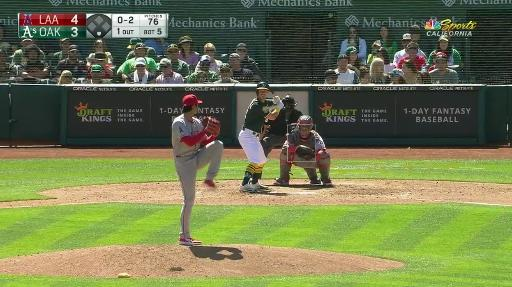pitcher: (172, 95, 224, 246)
